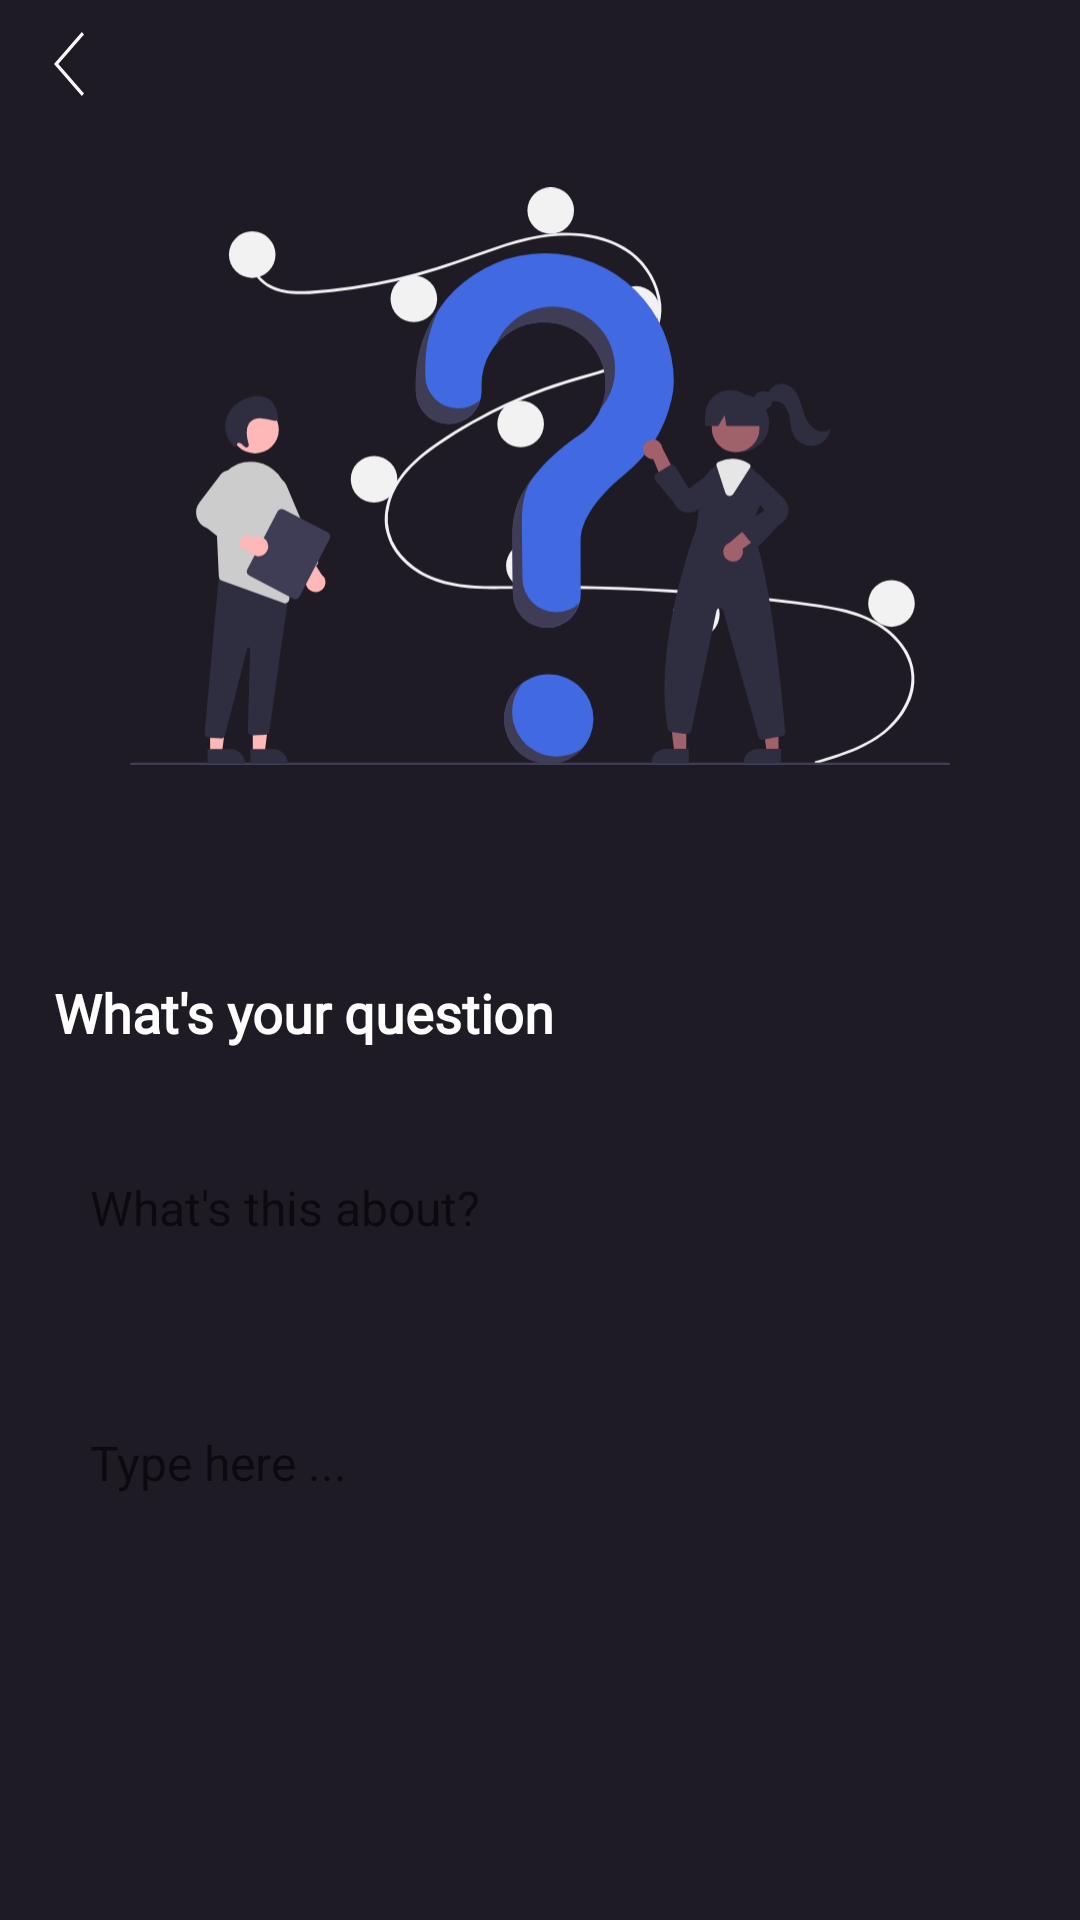

Icons on this 1080 x 1920 Android screen, each with its box as (x1, y1, x2, y2):
back: (54, 32, 84, 96)
